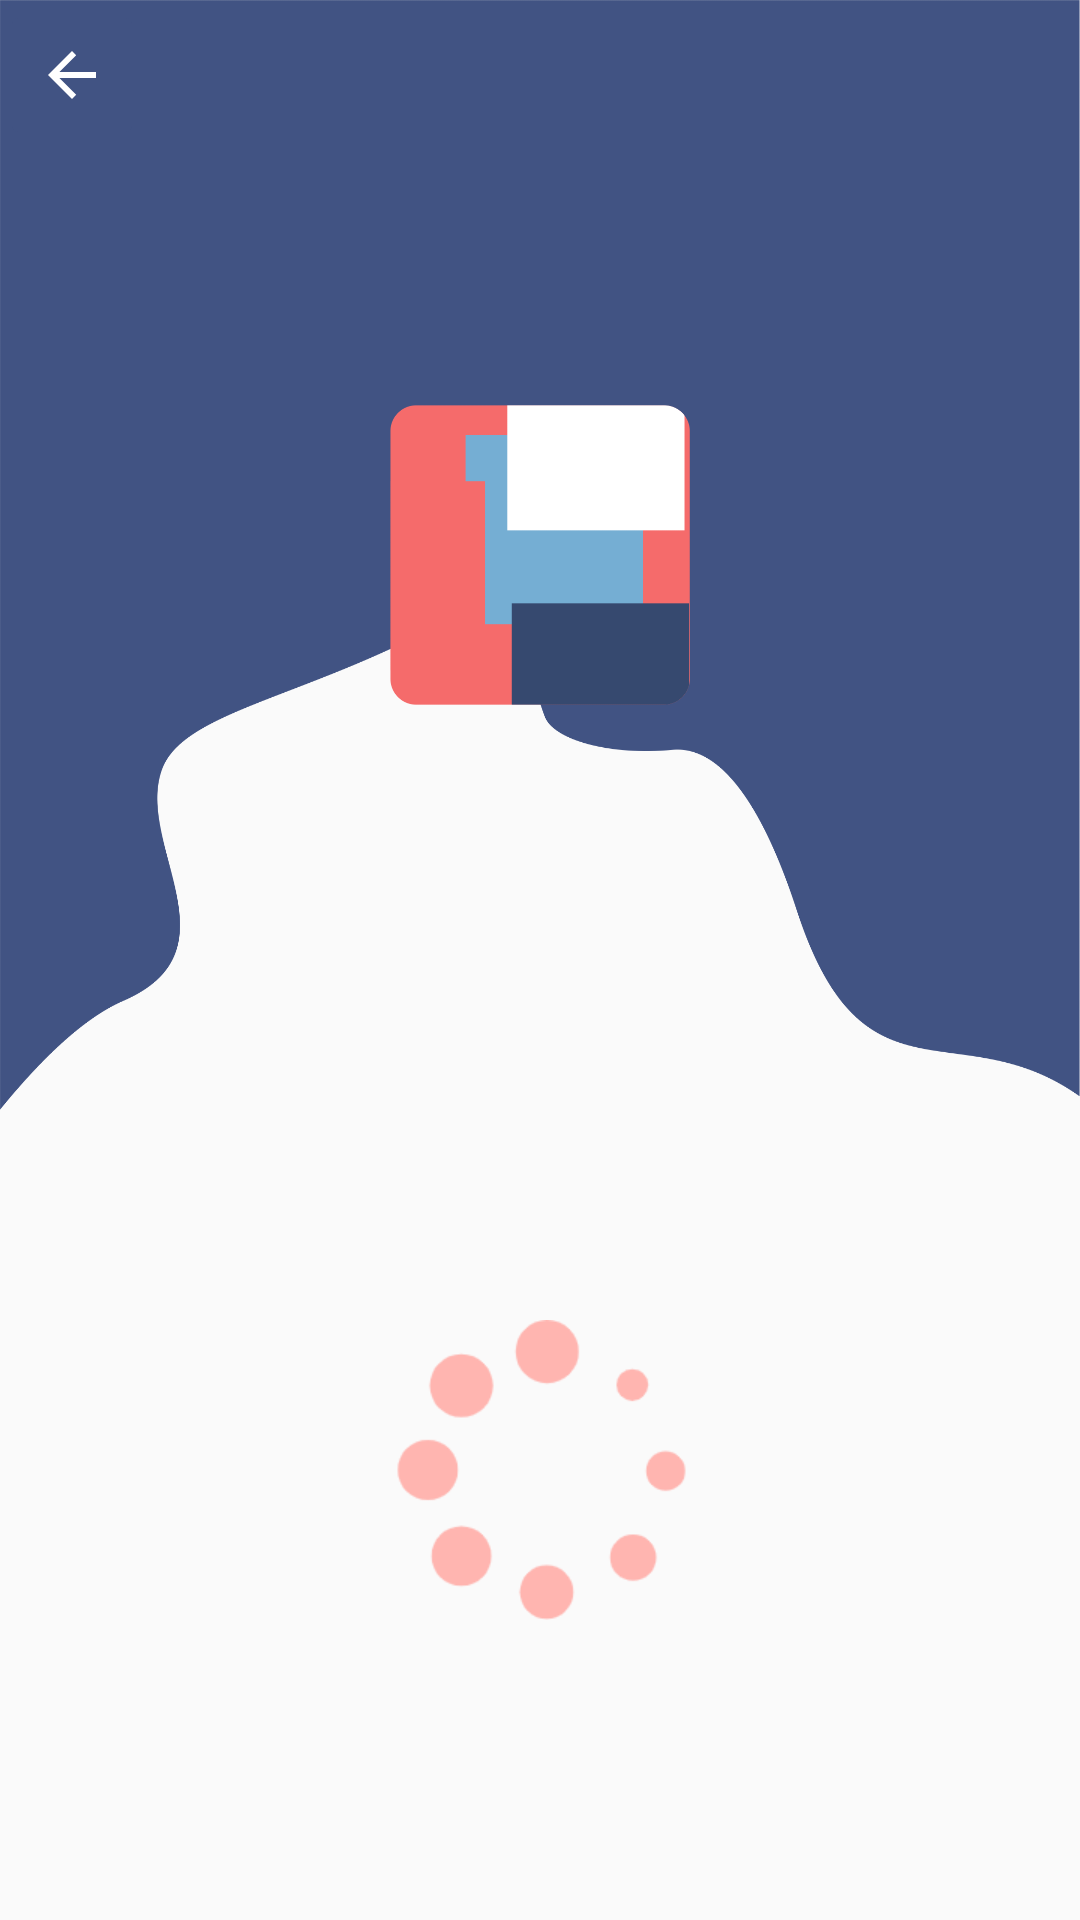

Icon bounding boxes for this 1080×1920 phone screenshot, format [x1, y1, x2, y2]:
loading: [397, 1320, 686, 1619]
